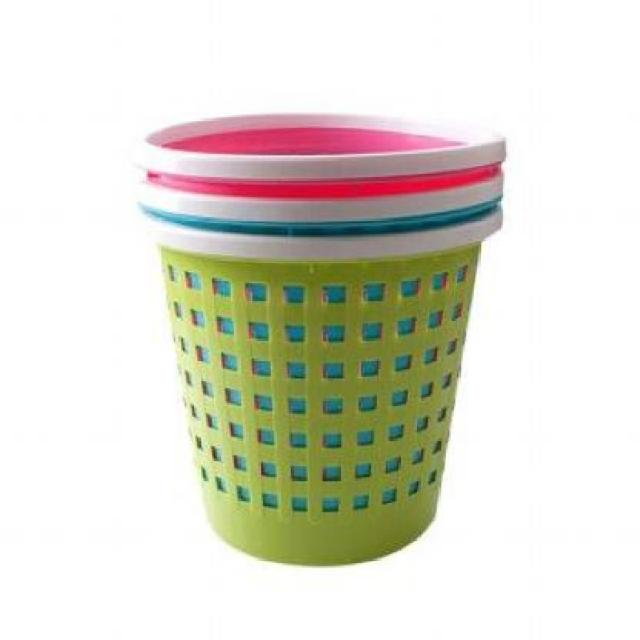dustbin: (126, 103, 512, 573)
